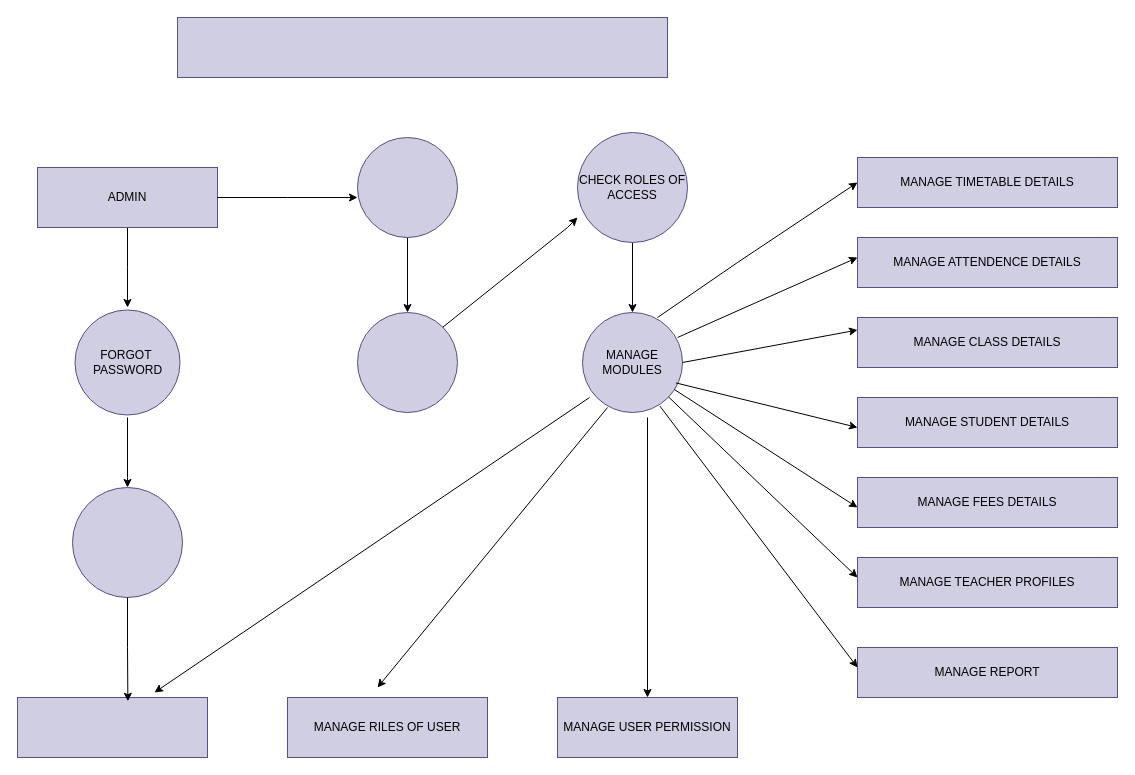
Image size: 1135x775. Some labels were removed from this diagram. Here are the shapes that lost their labels. From the top down, the box of each, then its label:
(176, 16, 668, 78): STUDENT INFORMATION SYSTEM
(356, 136, 458, 238): LOGIN TO SYSTEM
(356, 312, 458, 412): CHECK CREDENTIAL
(72, 486, 182, 598): SEND EMAIL TO USER
(16, 696, 208, 758): MANAGE SYSTEM ADMINS
